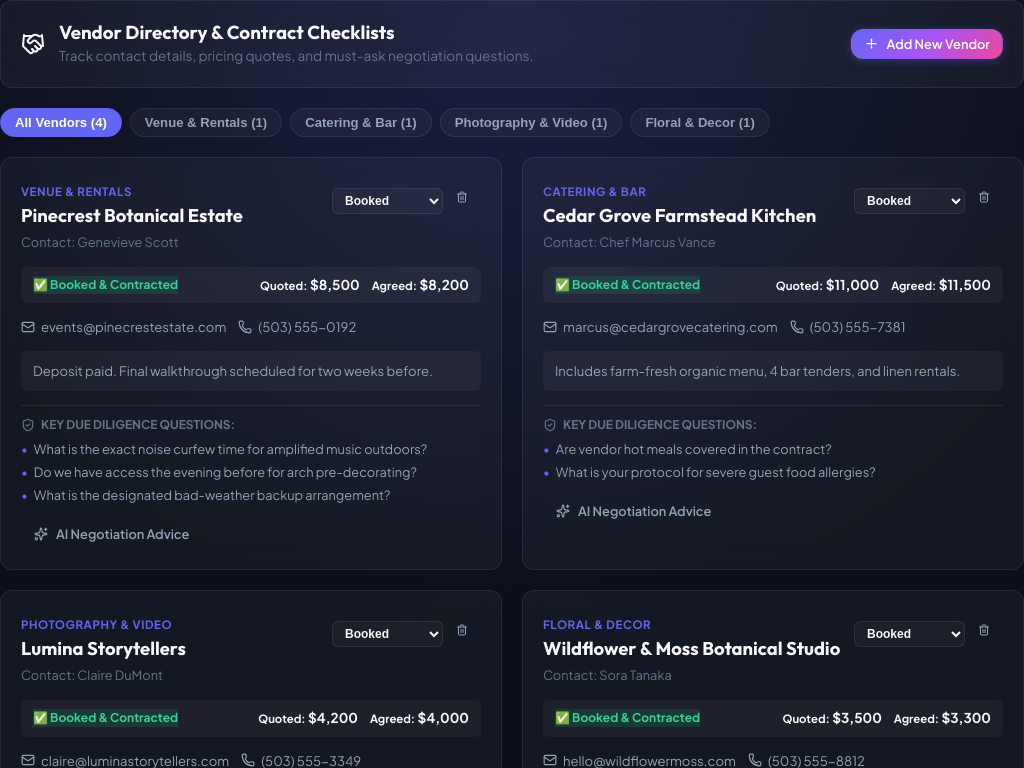
Additional UI Component Tests & Regression Suite › VendorsTab filters directory by status and opens add vendor form
Check: the heading "Vendor Directory & Contract Checklists" is shown, box [59,20,395,44]
Check: the heading "Pinecrest Botanical Estate" is shown, box [21,204,243,227]
Note: Click Category Filter
Click the button "Floral & Decor (1)": click(700, 122) [630,108,770,137]
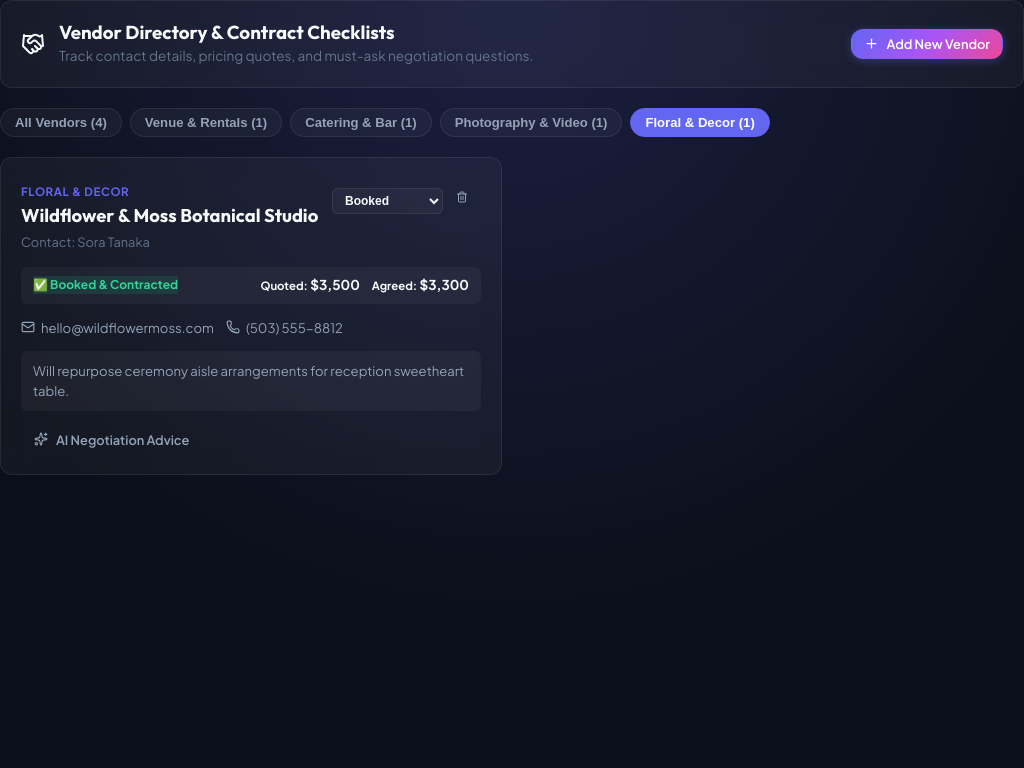
Note: Click Add Vendor button
Click the button "Add New Vendor": click(927, 44) [850,29,1003,59]
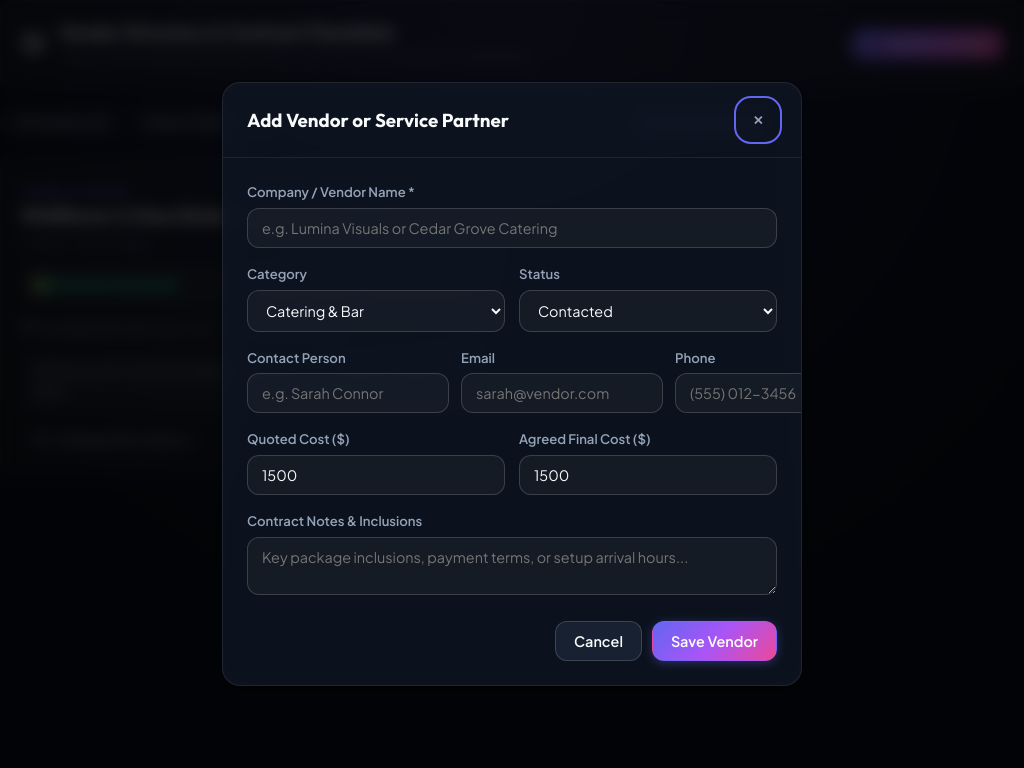
Check: the dialog is shown
Check: the heading "Add Vendor or Service Partner" is shown, box [247,109,509,132]
